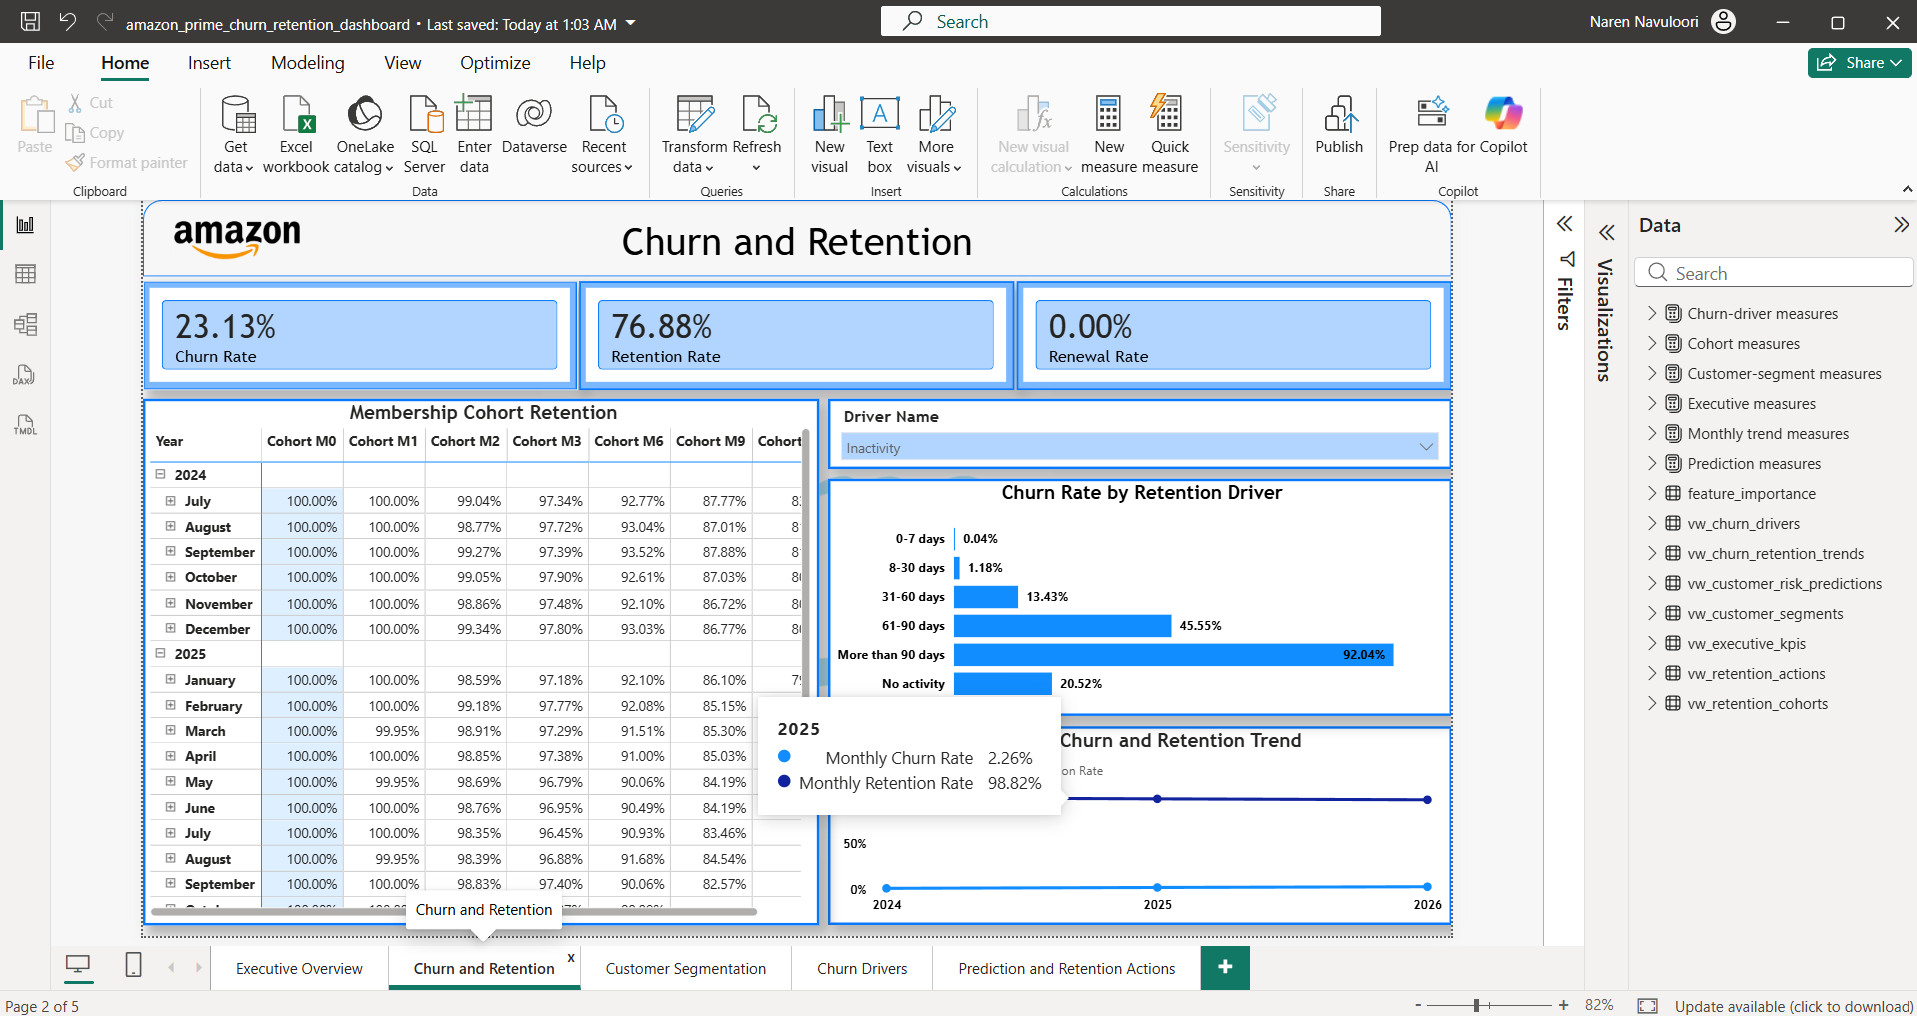

The page's visual inventory and layout, read from the dashboard file:
{"tool":"powerbi","page":{"name":"Churn and Retention","canvas":[1280,720],"ordinal":1},"visuals":[{"type":"shape","box":[0,0,1280.2,74.9],"z":0},{"type":"image","box":[11,17.1,160.2,41.6],"z":1000},{"type":"cardVisual","fields":{"Data":["Executive measures.Churn Rate"]},"box":[0,79.5,425,106.4],"z":2000},{"type":"cardVisual","fields":{"Data":["Executive measures.Retention Rate"]},"box":[426.8,79.5,425.5,106.4],"z":3000},{"type":"cardVisual","fields":{"Data":["Executive measures.Renewal Rate"]},"box":[854.8,79.5,425.5,106.4],"z":4000},{"type":"lineChart","title":"Monthly Churn and Retention Trend","fields":{"Category":["vw_churn_retention_trends.month_start.Variation.Date Hierarchy.Year","vw_churn_retention_trends.month_start.Variation.Date Hierarchy.Quarter","vw_churn_retention_trends.month_start.Variation.Date Hierarchy.Month","vw_churn_retention_trends.month_start.Variation.Date Hierarchy.Day"],"Y":["Monthly trend measures.Monthly Churn Rate","Monthly trend measures.Monthly Retention Rate"]},"box":[670.1,514.8,610.2,194.4],"z":5000},{"type":"pivotTable","title":"Membership Cohort Retention","fields":{"Rows":["vw_retention_cohorts.cohort_month.Variation.Date Hierarchy.Year","vw_retention_cohorts.cohort_month.Variation.Date Hierarchy.Month","vw_retention_cohorts.cohort_month.Variation.Date Hierarchy.Day"],"Values":["Cohort measures.Cohort M0","Cohort measures.Cohort M1","Cohort measures.Cohort M2","Cohort measures.Cohort M3","Cohort measures.Cohort M6","Cohort measures.Cohort M9","Cohort measures.Cohort M12"]},"box":[0,194.4,661.6,514.8],"z":6000},{"type":"slicer","fields":{"Values":["vw_churn_drivers.driver_name"]},"box":[670.1,194.4,610.2,68.5],"z":7000},{"type":"barChart","title":"Churn Rate by Retention Driver","fields":{"Category":["vw_churn_drivers.driver_value"],"Y":["Churn-driver measures.Driver Churn Rate"]},"box":[670.1,272.7,610.2,232.3],"z":8000}]}

Visuals, with their boxes on the page's 1280x720 design canvas (x1, y1, x2, y2). These are canvas units, not pixel positions in the 1917x1016 screenshot, which may show the page scaled, cropped or inside an application window:
shape: (0,0,1280,75)
image: (11,17,171,59)
cardVisual - Executive measures.Churn Rate: (0,80,425,186)
cardVisual - Executive measures.Retention Rate: (427,80,852,186)
cardVisual - Executive measures.Renewal Rate: (855,80,1280,186)
"Monthly Churn and Retention Trend" lineChart: (670,515,1280,709)
"Membership Cohort Retention" pivotTable: (0,194,662,709)
slicer - vw_churn_drivers.driver_name: (670,194,1280,263)
"Churn Rate by Retention Driver" barChart: (670,273,1280,505)
